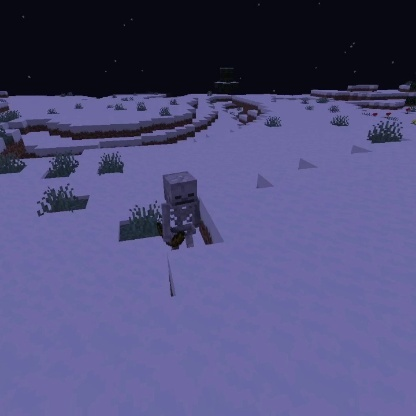skeleton: (153, 169, 203, 250)
